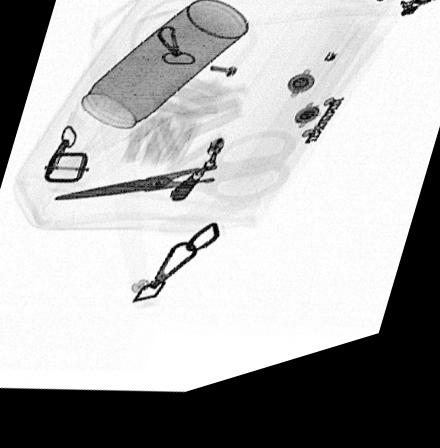Scissors: (50, 142, 302, 220)
